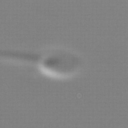normal: (1, 48, 43, 69)
